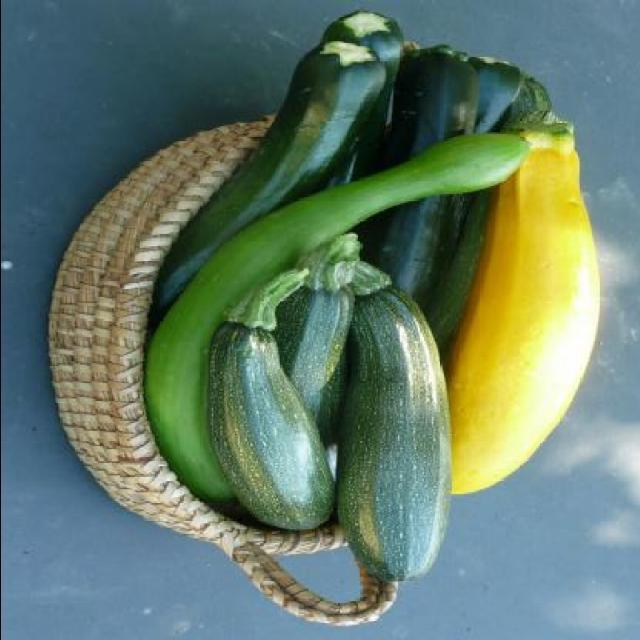Zucchini: (127, 147, 535, 499), (143, 38, 383, 314), (434, 111, 604, 491), (329, 254, 458, 586), (204, 270, 338, 532), (434, 73, 556, 339), (376, 44, 487, 296), (306, 9, 408, 212), (264, 236, 362, 438), (466, 55, 532, 138)
